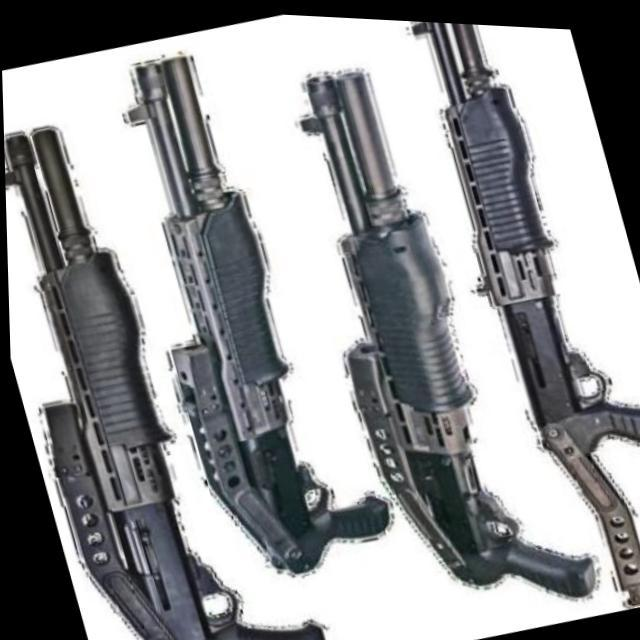weapon: (259, 29, 602, 636), (80, 22, 400, 593), (2, 87, 331, 640), (391, 16, 640, 619)
